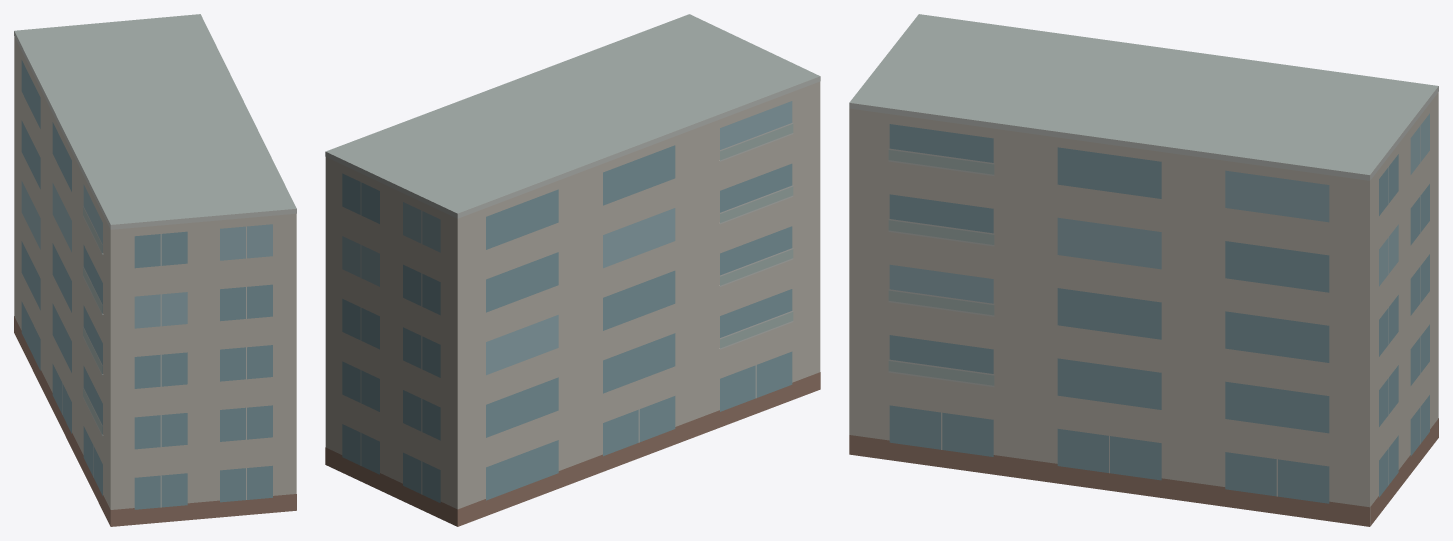
Rendered from survey-upis-32528073.glb.
3 renders of one model, left to right at view 1: azimuth 30°, elevation 25°; view 2: azimuth 150°, elevation 25°; view 3: azimuth 270°, elevation 25°, orthographic. The views are drawn at different scales.
Parts seen in each view (by area): view 1: survey-upis-32528073.tmp; view 2: survey-upis-32528073.tmp; view 3: survey-upis-32528073.tmp.
Part boxes in pixels (x1=…): survey-upis-32528073.tmp: x1=14, y1=14, x2=296, y2=526; survey-upis-32528073.tmp: x1=325, y1=14, x2=820, y2=526; survey-upis-32528073.tmp: x1=849, y1=14, x2=1438, y2=526.
Bounding box in the file's own units: 14.75 × 15 × 22.8.
